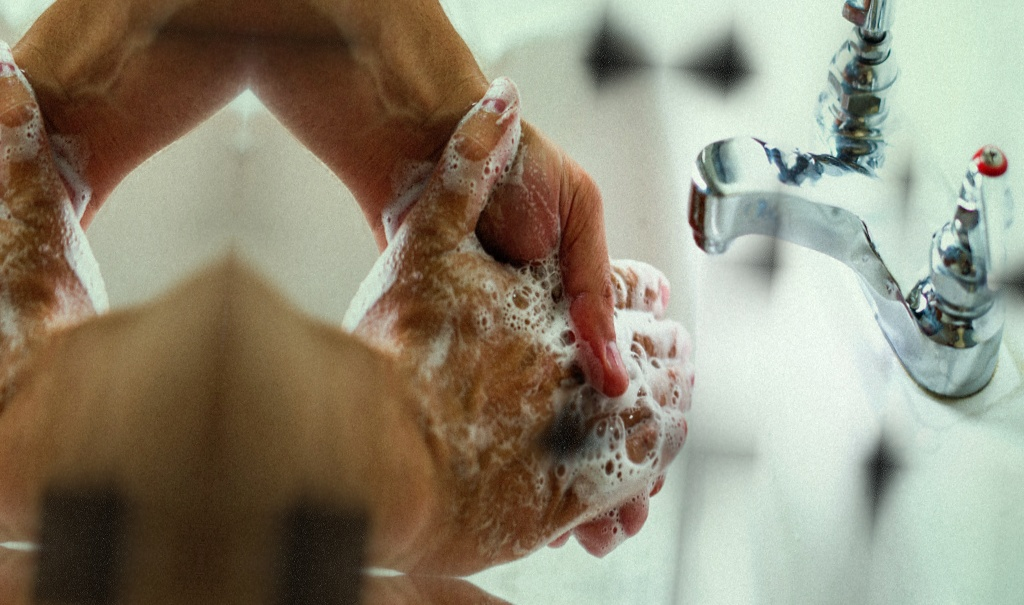washing hand: (285, 0, 926, 587)
